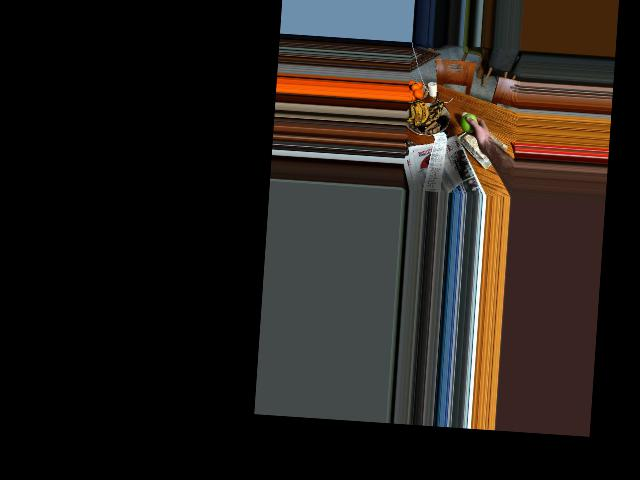apple: (459, 112, 479, 134)
